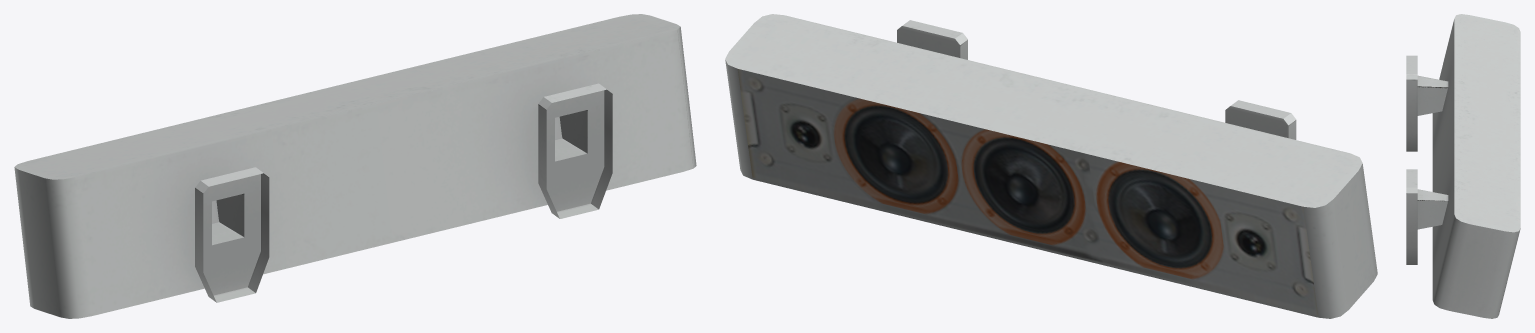
File: Loudspeaker06.FBX
3 renders of one model, left to right at view 1: azimuth 30°, elevation 25°; view 2: azimuth 150°, elevation 25°; view 3: azimuth 270°, elevation 25°, orthographic. The views are drawn at different scales.
Parts seen in each view (by area): view 1: Loudspeaker06; view 2: Loudspeaker06; view 3: Loudspeaker06.
Boxes of the visible parts, <box> form: Loudspeaker06: <box>14,14,696,318</box>; Loudspeaker06: <box>725,14,1377,318</box>; Loudspeaker06: <box>1406,14,1520,318</box>.
Size of the model in its own units: 78.83 by 17.6 by 18.24.
